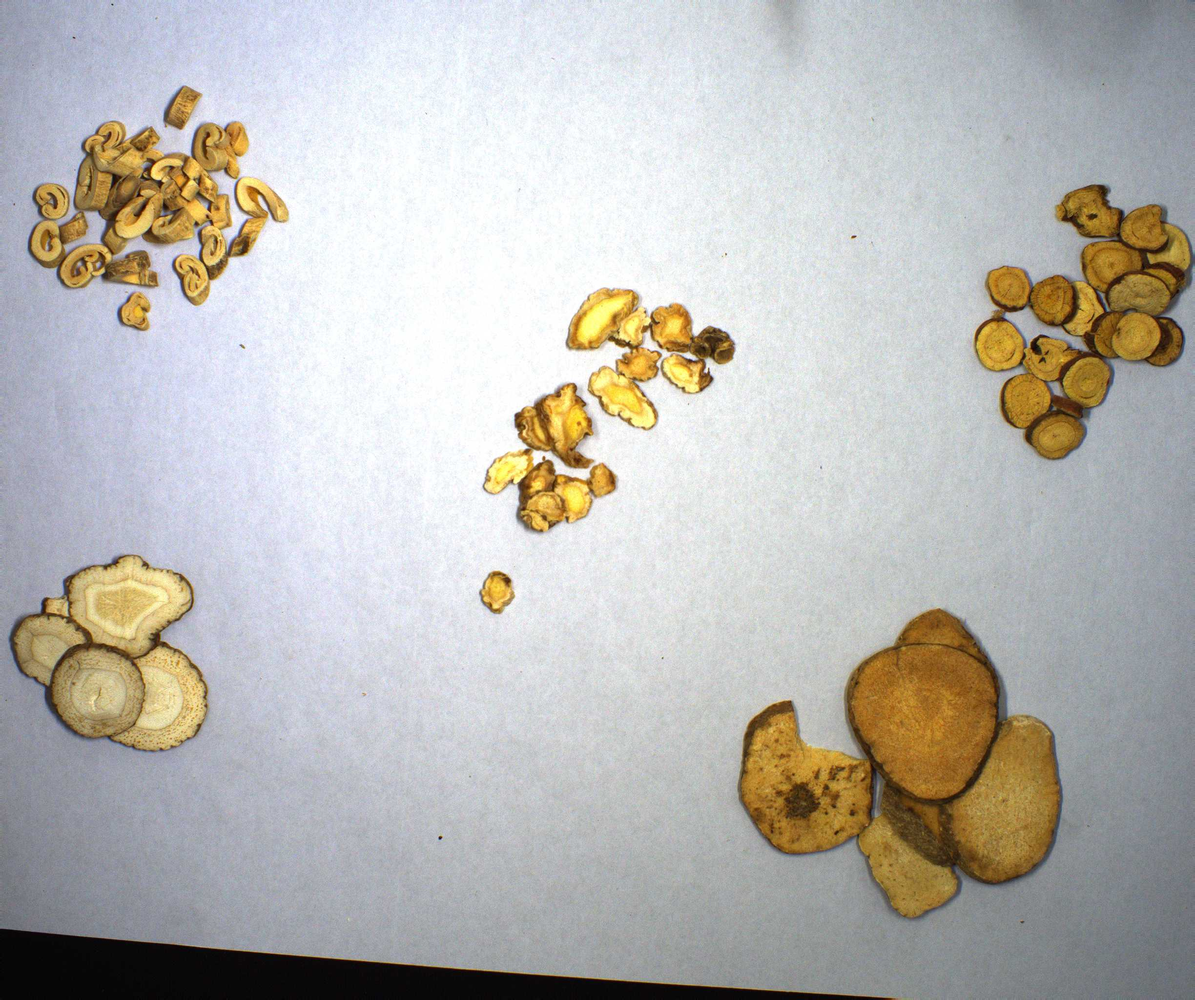baixianpi: (25, 70, 291, 336)
baizhi: (3, 544, 231, 758)
gancao: (962, 174, 1192, 465)
jiegeng: (436, 260, 753, 619)
zexie: (721, 597, 1077, 925)
